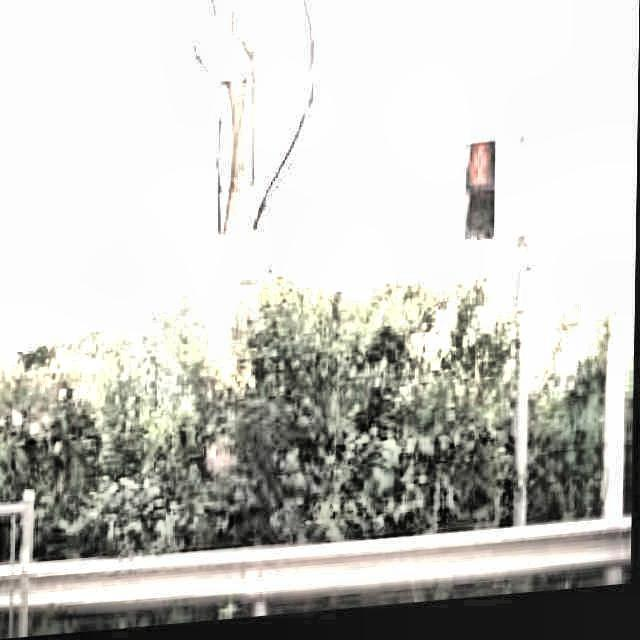semaforo pedestre: (392, 118, 562, 338)
